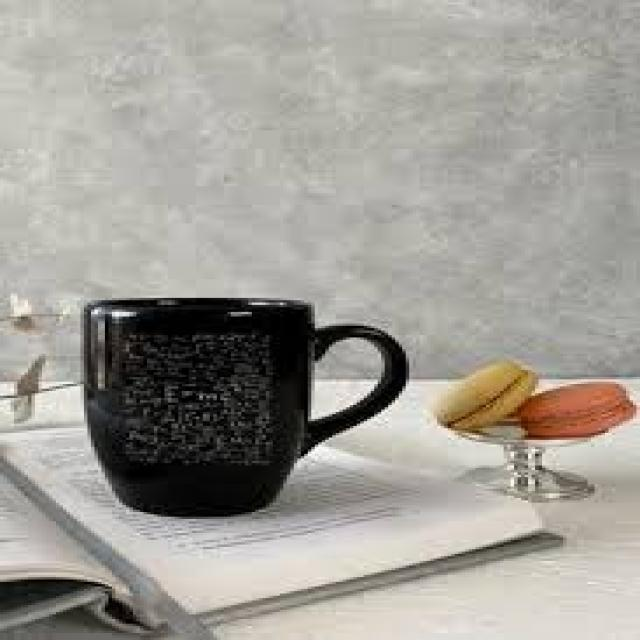taza: (80, 296, 414, 521)
